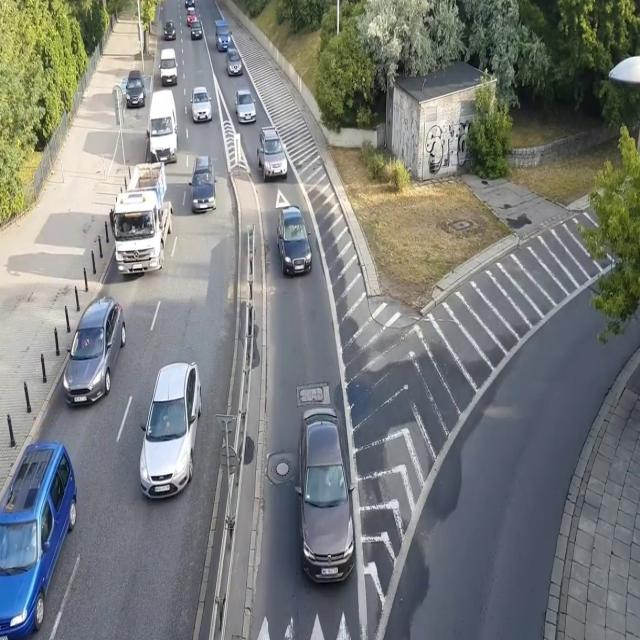car: (292, 406, 358, 586), (138, 360, 202, 503), (62, 296, 126, 407), (276, 205, 313, 279), (256, 127, 290, 180), (188, 155, 217, 212), (190, 84, 214, 123), (234, 89, 258, 126), (124, 69, 146, 109), (226, 48, 243, 76), (162, 19, 177, 38), (190, 21, 203, 41), (185, 6, 197, 27), (184, 0, 195, 7)
truck: (112, 162, 174, 278)
van: (0, 440, 78, 640), (146, 90, 179, 166), (158, 48, 180, 86), (214, 18, 232, 51)
